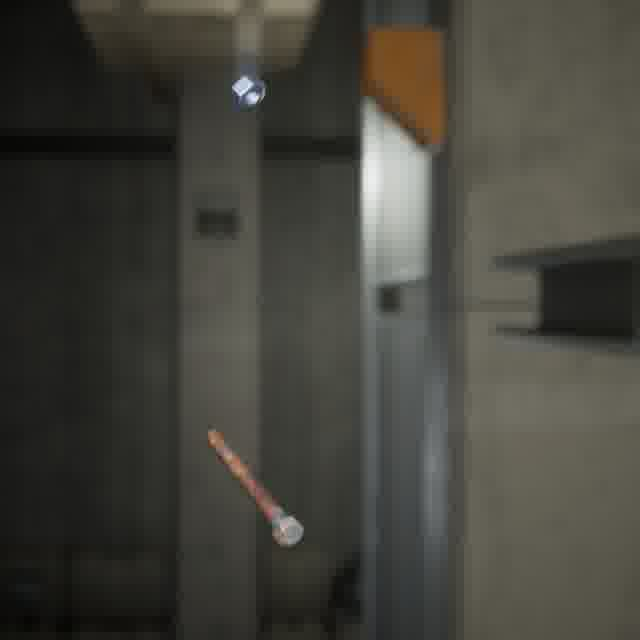bolt: (201, 425, 308, 551)
nut: (225, 70, 269, 114)
